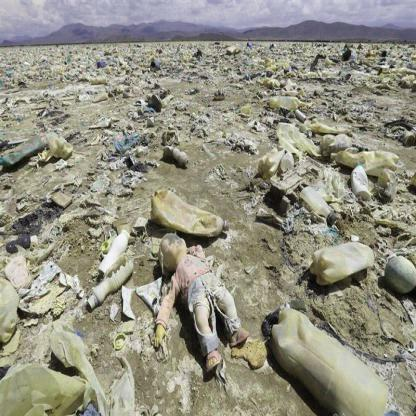Plastic: (277, 307, 383, 411), (148, 186, 228, 232), (311, 239, 377, 278), (87, 261, 126, 310), (329, 145, 401, 170), (1, 132, 45, 172), (100, 224, 131, 271), (0, 279, 22, 342), (298, 189, 332, 218), (352, 162, 374, 202), (320, 127, 350, 156), (47, 129, 74, 158), (162, 142, 193, 167), (261, 149, 283, 180), (269, 90, 304, 108), (284, 147, 296, 171)
Trash: (0, 336, 98, 413), (10, 193, 58, 244), (80, 161, 121, 198), (280, 120, 318, 156), (30, 260, 60, 298), (388, 122, 416, 140), (116, 126, 136, 151), (124, 155, 149, 172)
